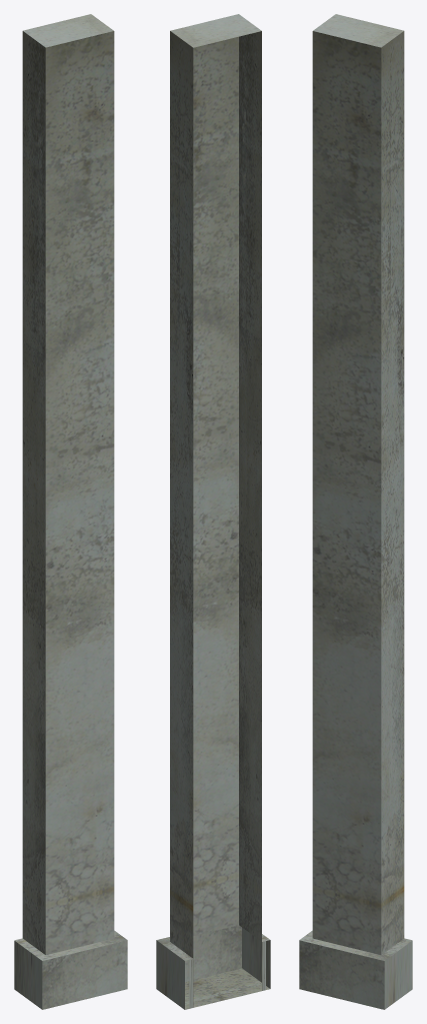
The picture shows the model from 3 angles, left to right: view 1: azimuth 30°, elevation 25°; view 2: azimuth 210°, elevation 25°; view 3: azimuth 330°, elevation 25°; orthographic projection.
Visible parts, largest first — view 1: Cube (7); view 2: Cube (7); view 3: Cube (7).
Part boxes in pixels (bbox=[...]): Cube (7): bbox=[14, 14, 127, 1009]; Cube (7): bbox=[156, 14, 270, 1009]; Cube (7): bbox=[299, 14, 412, 1009].
Bounding box in the file's own units: 52.96 × 567 × 30.37.
